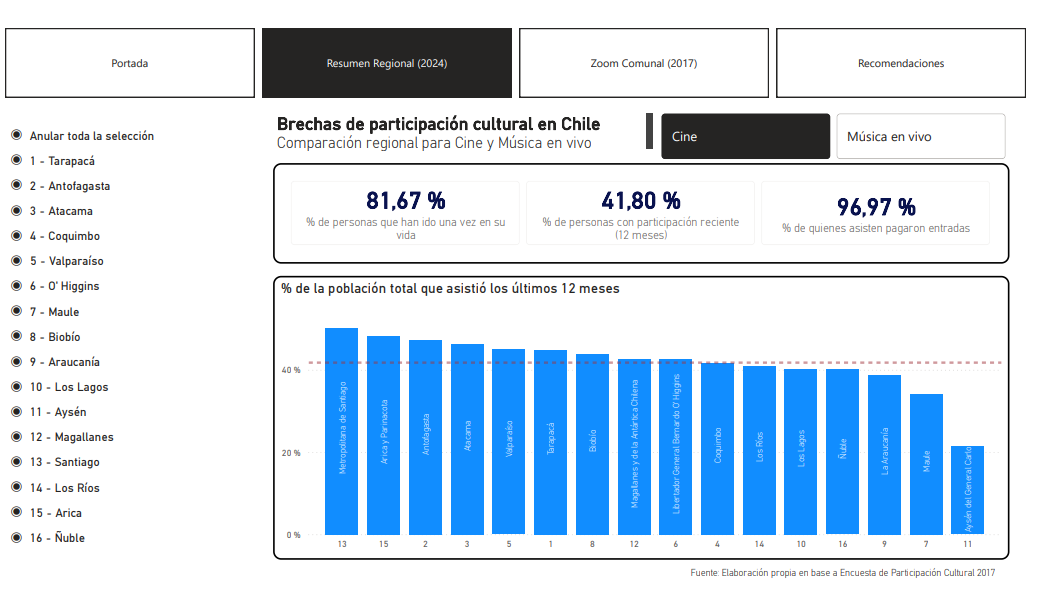

The page's visual inventory and layout, read from the dashboard file:
{"tool":"powerbi","page":{"name":"Resumen Regional (2024)","canvas":[1280,720],"ordinal":1},"visuals":[{"type":"cardVisual","fields":{"Data":["Avg(public vw_kpis_region.share_alguna_vez)","Avg(public vw_kpis_region.share_asistio_12m)","Avg(public vw_kpis_region.share_pago)"]},"box":[330,198.3,908.3,123.3],"z":0},{"type":"pageNavigator","box":[0,32.4,1259.7,85.1],"z":1000},{"type":"advancedSlicerVisual","fields":{"Values":["DimDisciplina.disciplina_label"]},"box":[804,132,434,66],"z":2000},{"type":"listSlicer","fields":{"Values":["DimRegion.Region_slicer"]},"box":[0,143.1,229.3,543.1],"z":3000},{"type":"clusteredColumnChart","title":"% de la población total que asistió los últimos 12 meses ","fields":{"Y":["Avg(public vw_kpis_region.share_asistio_12m)"],"Category":["DimRegion.COD_REG"]},"box":[330,336.7,908.3,350],"z":4000},{"type":"textbox","box":[330,131.7,473.3,55],"z":5000},{"type":"textbox","box":[840,688.3,396.7,31.7],"z":6000}]}

Visuals, with their boxes on the page's 1280x720 design canvas (x1, y1, x2, y2). These are canvas units, not pixel positions in the 1041x591 screenshot, which may show the page scaled, cropped or inside an application window:
cardVisual - Avg(public vw_kpis_region.share_alguna_vez) x Avg(public vw_kpis_region.share_asistio_12m): box=[330, 198, 1238, 322]
pageNavigator: box=[0, 32, 1260, 118]
advancedSlicerVisual - DimDisciplina.disciplina_label: box=[804, 132, 1238, 198]
listSlicer - DimRegion.Region_slicer: box=[0, 143, 229, 686]
"% de la población total que asistió los últimos 12 meses " clusteredColumnChart: box=[330, 337, 1238, 687]
textbox: box=[330, 132, 803, 187]
textbox: box=[840, 688, 1237, 720]
